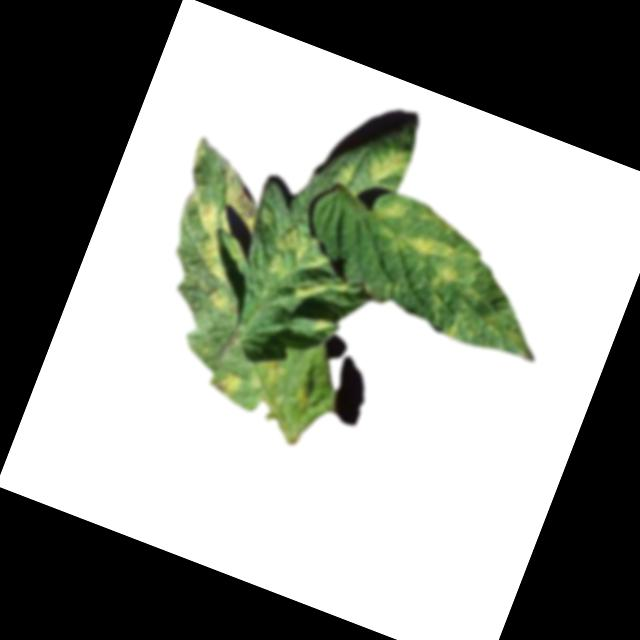Leaf_Mold: (255, 220, 366, 315), (388, 221, 475, 294), (209, 165, 271, 231), (363, 140, 415, 191), (189, 236, 239, 286), (187, 200, 229, 240), (373, 190, 413, 230), (206, 363, 248, 401), (198, 284, 239, 318)
